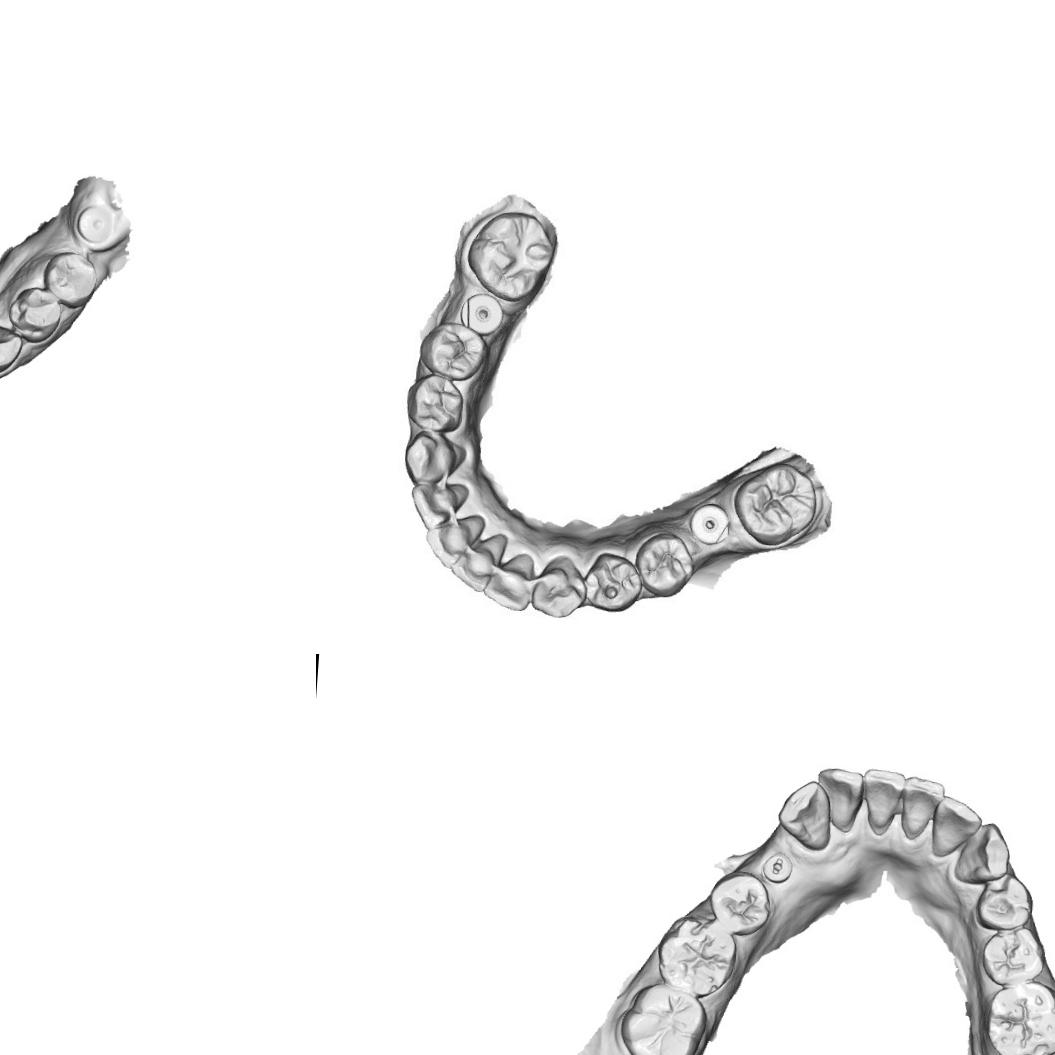canine: (772, 775, 836, 853), (951, 819, 1013, 888), (532, 555, 584, 623), (402, 430, 465, 486), (0, 321, 26, 377)
implant: (455, 290, 506, 336), (74, 199, 121, 248), (684, 500, 730, 548)
implant_minus: (756, 844, 795, 885)
incisor: (928, 792, 984, 862), (812, 764, 866, 832), (896, 774, 946, 844), (406, 478, 470, 529), (423, 516, 480, 571), (860, 765, 908, 830), (484, 555, 536, 612), (448, 539, 499, 593)
molar: (464, 204, 556, 303), (649, 909, 741, 1001), (730, 460, 821, 548), (615, 979, 711, 1055), (982, 978, 1055, 1055)
premolar: (705, 868, 774, 937), (417, 320, 492, 382), (632, 530, 698, 599), (580, 548, 645, 616), (978, 924, 1046, 989), (402, 371, 469, 434), (971, 872, 1036, 934), (4, 280, 64, 347), (38, 248, 101, 310)
